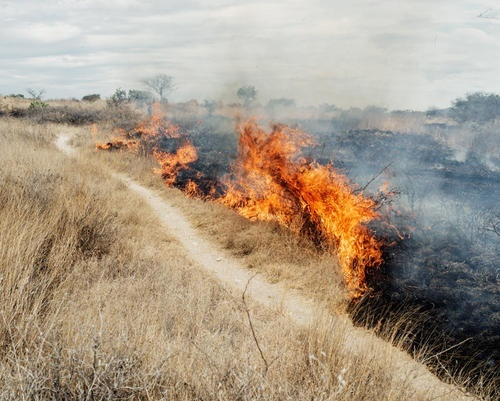fire: (211, 109, 409, 295), (93, 100, 213, 194)
